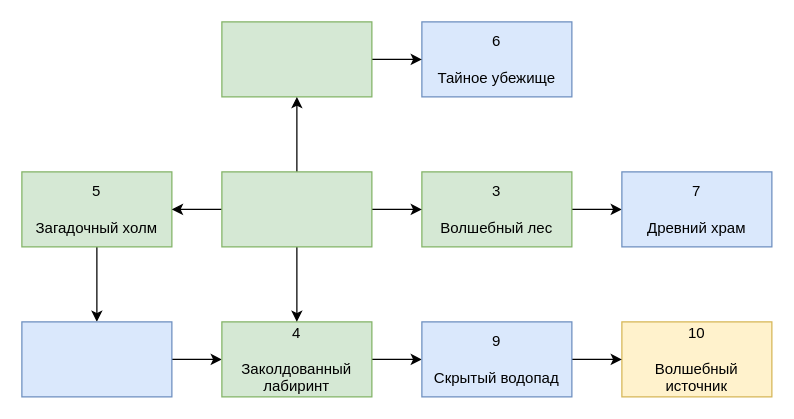
Some shapes in this 794 by 419 pixel diagram are drawn without their labels. Each missing label, with the centre of its shape:
1 Заброшенная поляна: pixel 296 209
2 Таинственная тропа: pixel 296 59
8 Пещера тайн: pixel 96 359
